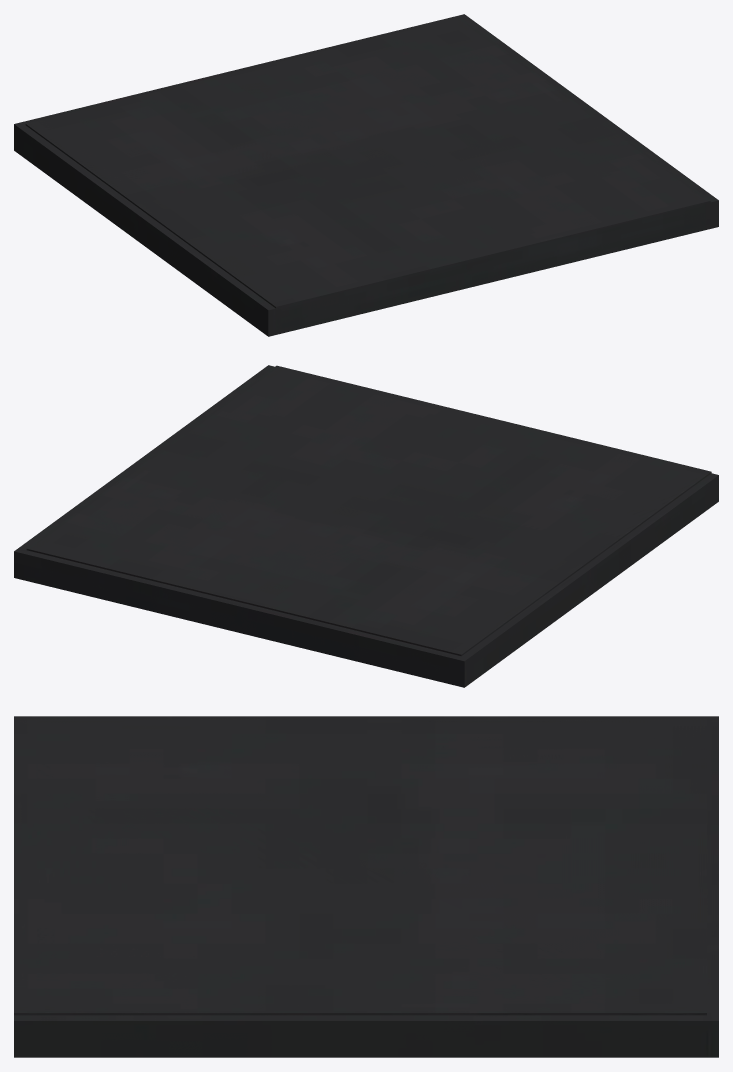
The model's file is link_2__board-32.glb.
3 views of the same model, one above another, from view 1: azimuth 30°, elevation 25°; view 2: azimuth 150°, elevation 25°; view 3: azimuth 270°, elevation 25° (orthographic). The views are drawn at different scales.
Visible parts, largest first — view 1: geometry_0; view 2: geometry_0; view 3: geometry_0.
Boxes of the visible parts, box(x1,y1,x2,y2) form: geometry_0: box(14, 14, 718, 336); geometry_0: box(14, 365, 718, 687); geometry_0: box(14, 716, 718, 1057).
Bounding box in the file's own units: 1.18 × 0.0705 × 1.16.
1 material, 1 textured.
